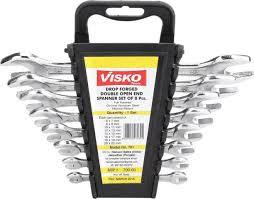wrench: (0, 50, 253, 78), (6, 71, 239, 96), (13, 87, 223, 112), (27, 105, 214, 127), (39, 121, 203, 142), (52, 138, 195, 155), (61, 155, 189, 170), (64, 169, 188, 184)
